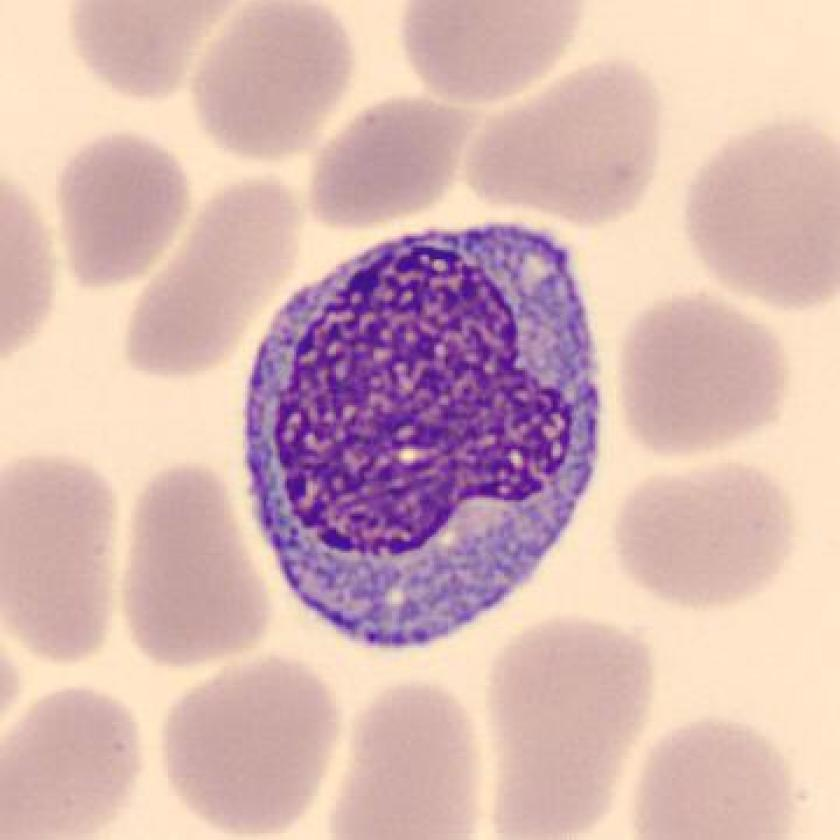monocyte: (223, 198, 622, 674)
